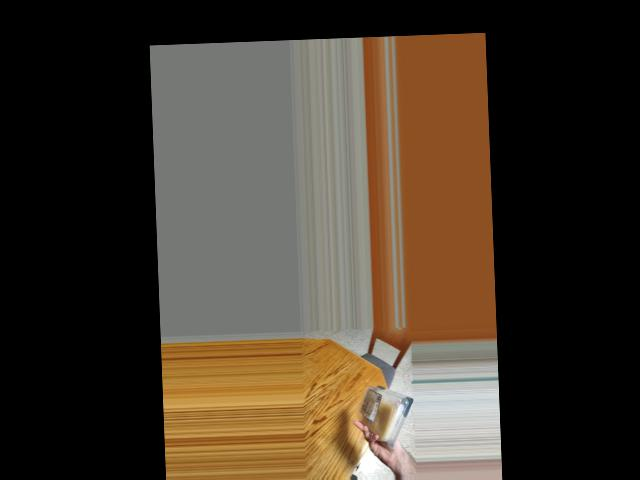cheese: (362, 384, 406, 443)
